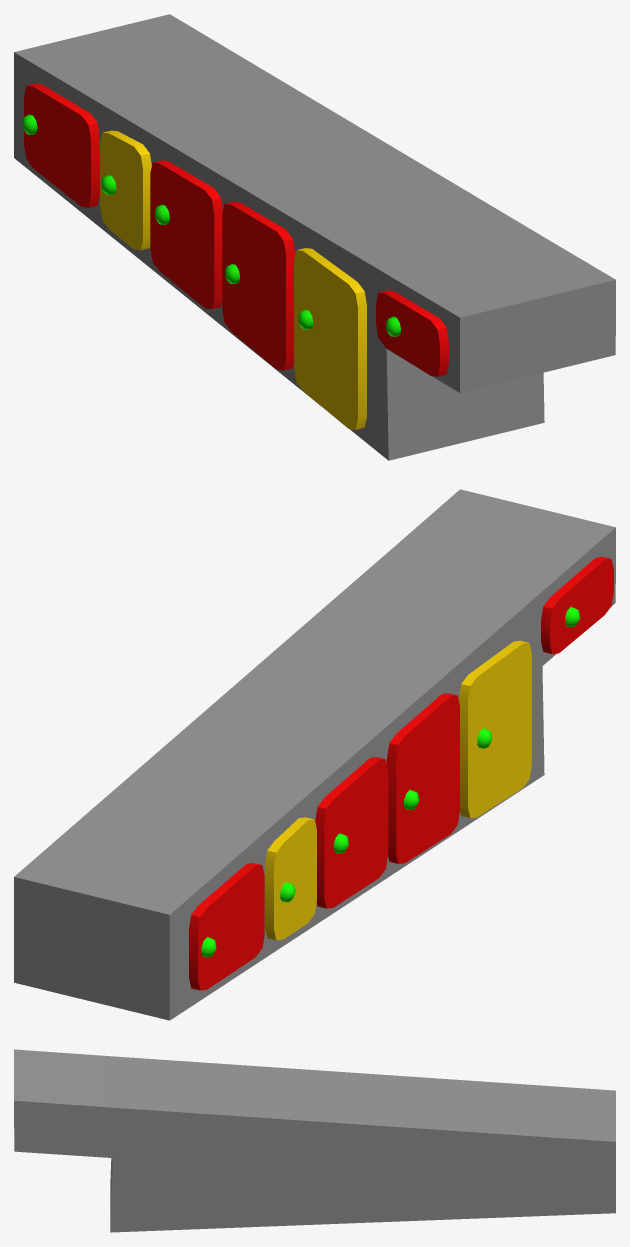
The model's file is Sink_top.FBX.
3 renders of one model, top to bottom at view 1: azimuth 30°, elevation 25°; view 2: azimuth 150°, elevation 25°; view 3: azimuth 270°, elevation 25°, orthographic. The views are drawn at different scales.
Visible parts, largest first — view 1: Box013; view 2: Box013; view 3: Box013.
Part boxes in pixels (bbox=[...]): Box013: bbox=[14, 14, 615, 460]; Box013: bbox=[14, 489, 615, 1020]; Box013: bbox=[14, 1049, 615, 1232].
Bounding box in the file's own units: 42.78 × 45.69 × 189.
